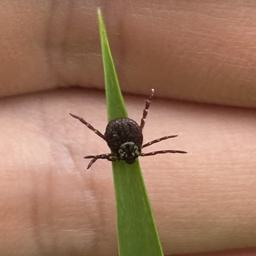Dermacentor variabilis: (68, 115, 169, 191)
